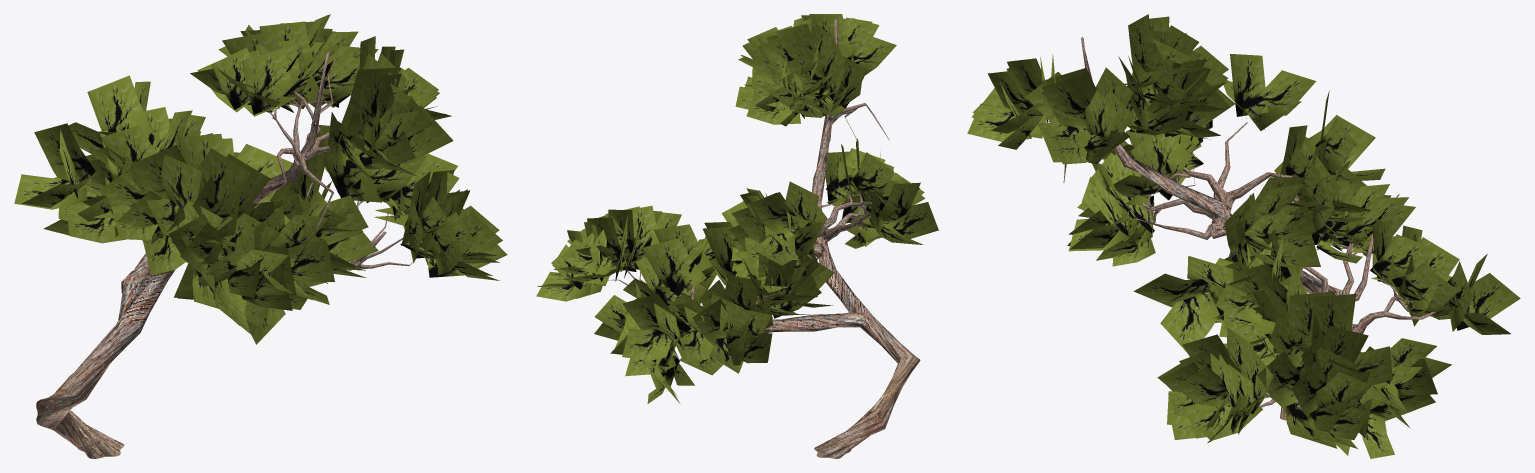
File: BOOM 1.fbx
3 renders of one model, left to right at view 1: azimuth 30°, elevation 25°; view 2: azimuth 150°, elevation 25°; view 3: azimuth 270°, elevation 25°, orthographic. The views are drawn at different scales.
Parts seen in each view (by area): view 1: Tree_1, Tree_0; view 2: Tree_1, Tree_0; view 3: Tree_1, Tree_0.
Boxes of the visible parts, bbox=[...] form: Tree_1: bbox=[14, 14, 507, 344]; Tree_0: bbox=[36, 52, 422, 458]; Tree_1: bbox=[536, 14, 938, 404]; Tree_0: bbox=[605, 19, 920, 458]; Tree_1: bbox=[967, 14, 1520, 458]; Tree_0: bbox=[1040, 37, 1448, 420].
Bounding box in the file's own units: 103 × 97.53 × 111.
2 materials, 2 textured.
